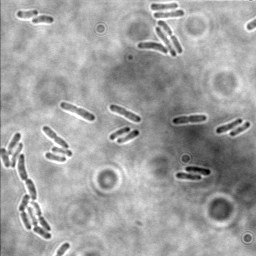Dividing: (156, 19, 183, 55), (59, 100, 96, 123), (109, 103, 142, 124), (41, 125, 69, 149), (171, 113, 209, 126), (152, 10, 185, 20)
Microcolony: (1, 132, 52, 241)
Rod: (153, 26, 177, 58), (215, 117, 243, 135), (136, 40, 169, 55), (228, 120, 252, 137), (116, 129, 141, 145), (108, 125, 131, 141), (184, 165, 212, 177), (149, 1, 179, 11), (49, 146, 73, 158), (174, 171, 202, 181), (31, 14, 54, 25), (44, 152, 67, 163), (16, 9, 38, 20)
